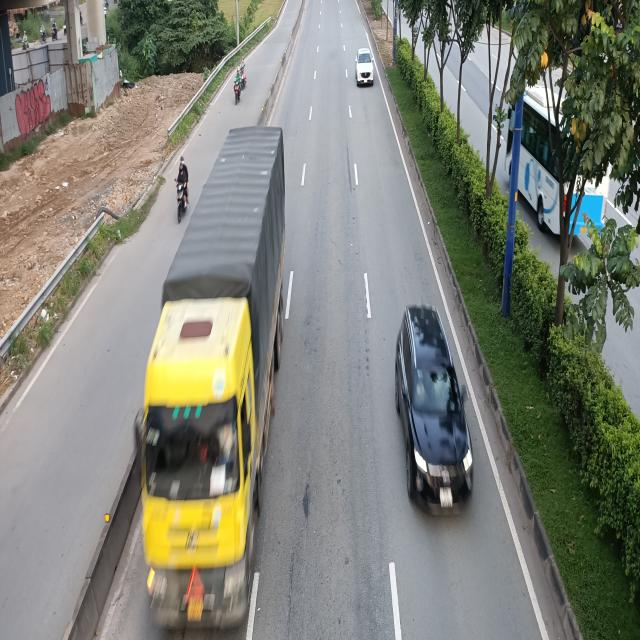car: (394, 305, 474, 524), (356, 47, 374, 85)
truck: (134, 126, 283, 640)
